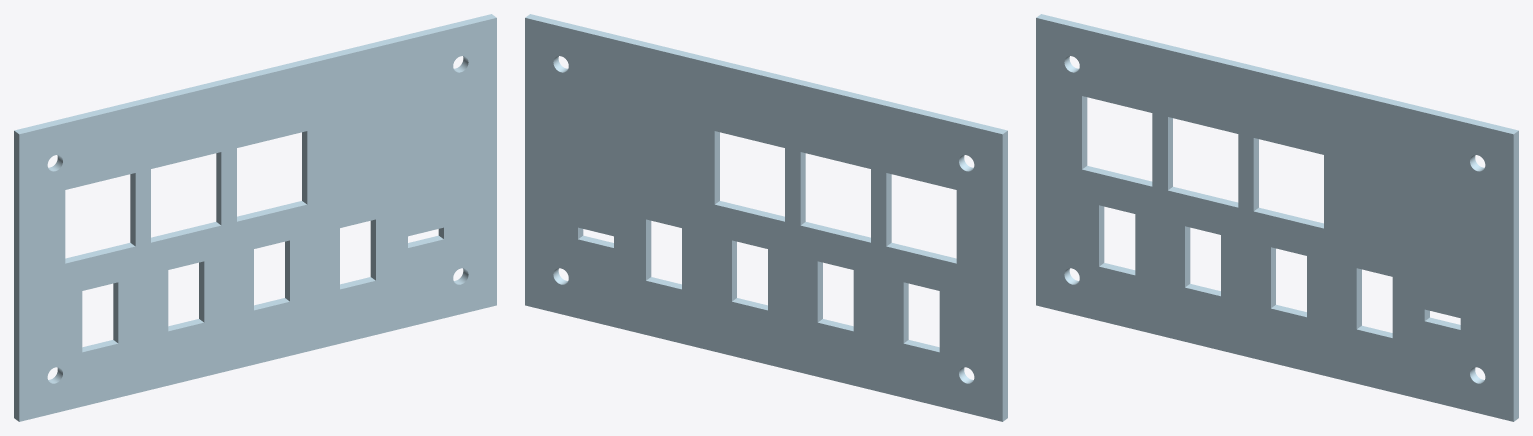
Rendered from lid.gltf.
3 views of the same model, side by side, from view 1: azimuth 30°, elevation 25°; view 2: azimuth 150°, elevation 25°; view 3: azimuth 330°, elevation 25° (orthographic).
Visible parts, largest first — view 1: Lid; view 2: Lid; view 3: Lid.
Boxes of the visible parts, bbox=[...] form: Lid: bbox=[14, 14, 496, 421]; Lid: bbox=[525, 14, 1007, 421]; Lid: bbox=[1036, 14, 1518, 421].
Size of the model in its own units: 0.106 by 0.061 by 0.002.
